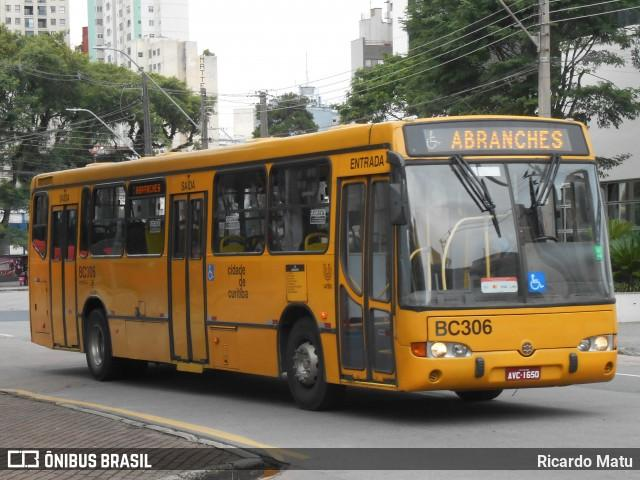ABRANCHES: (444, 127, 567, 155)
